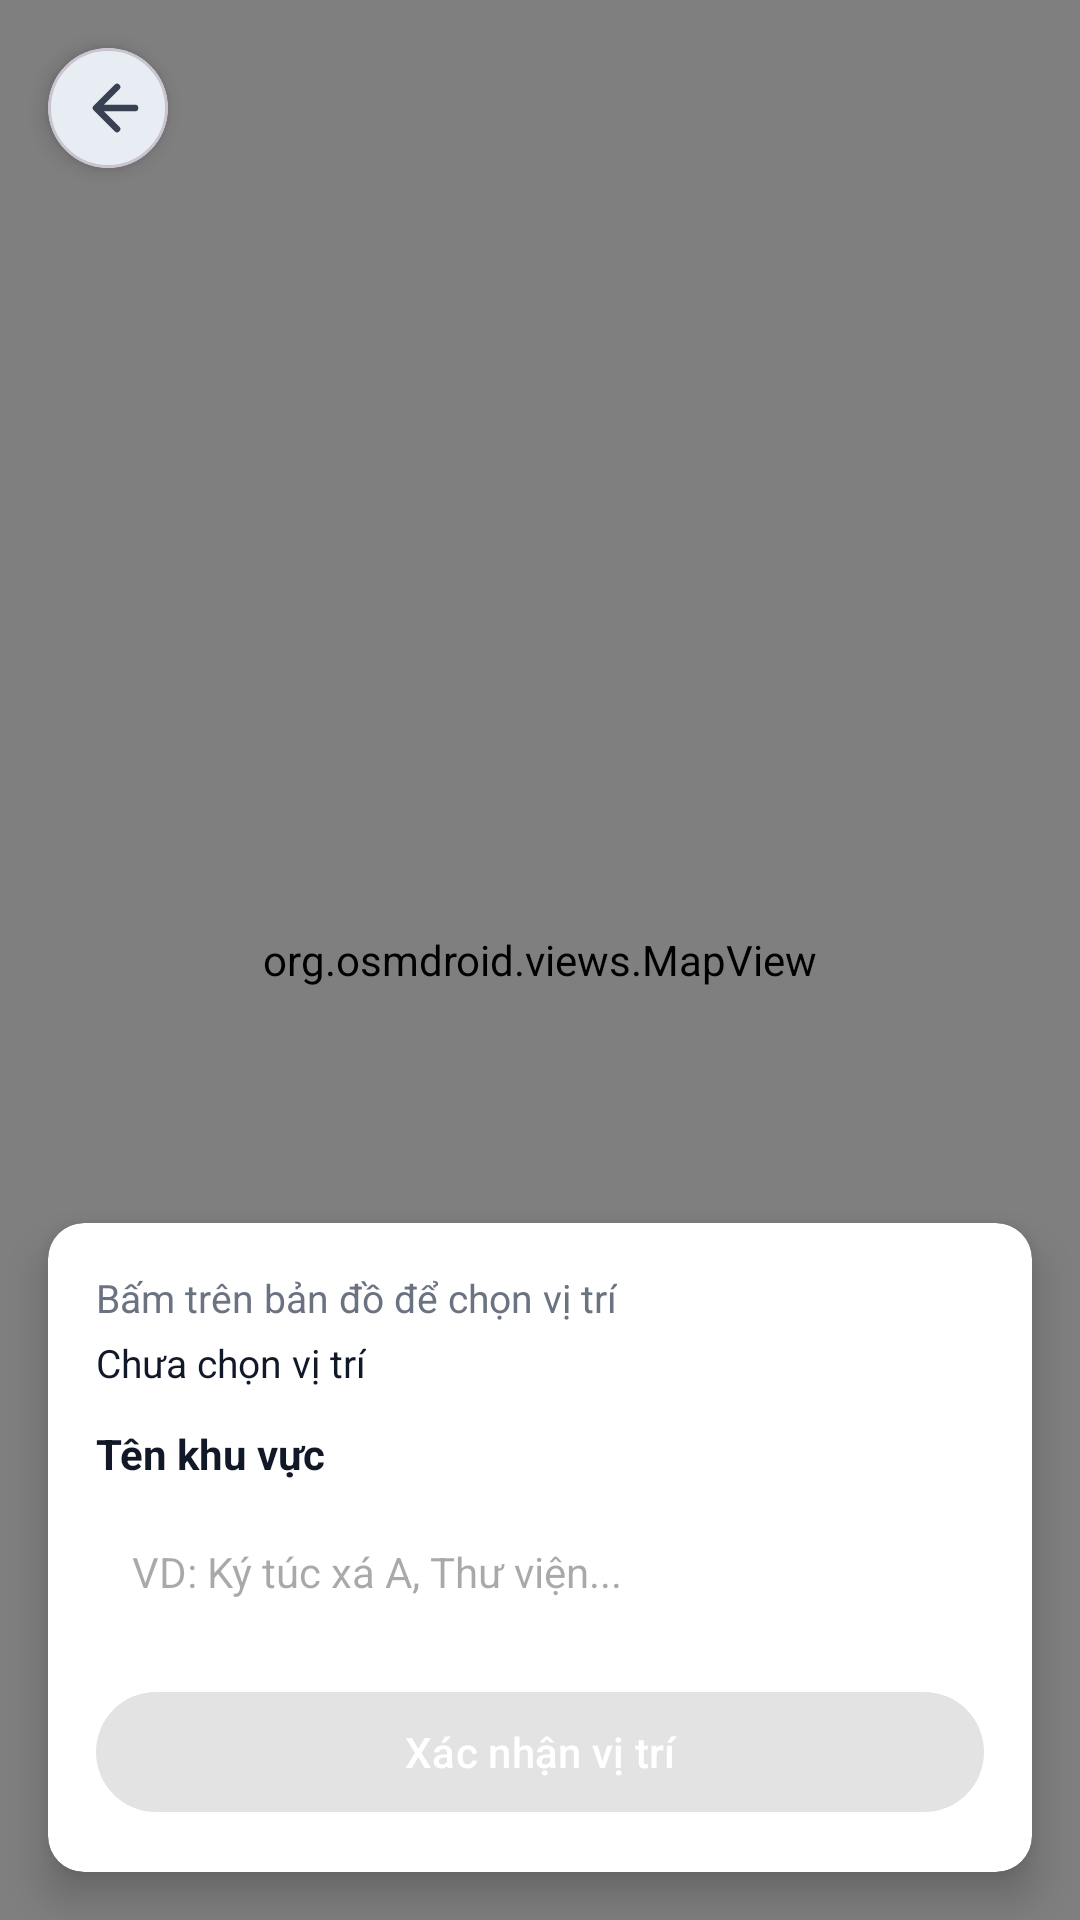

Screen size 1080*1920. Icon name, then its box in pixels as [x1,y1,x2,y2]:
post arrow back: [92,83,139,133]
